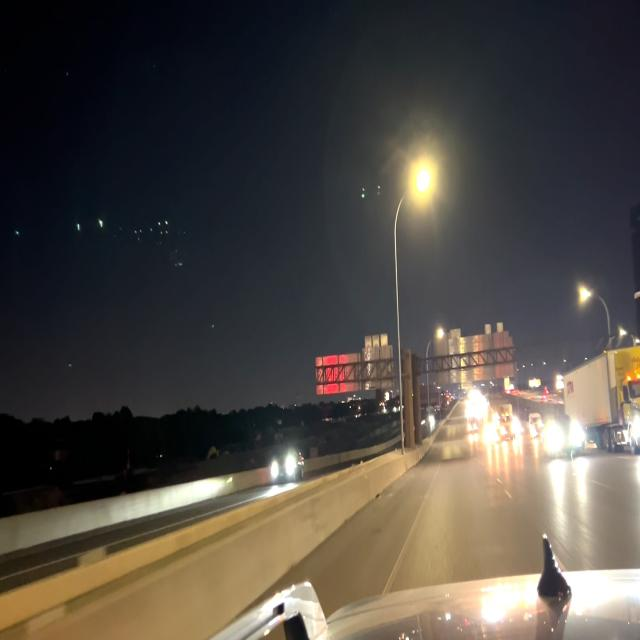back-of-sign: (432, 321, 514, 384), (317, 330, 393, 397)
